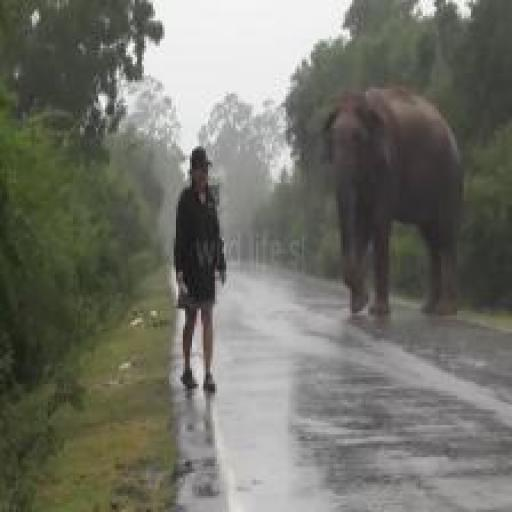Elephant: (300, 66, 498, 373)
